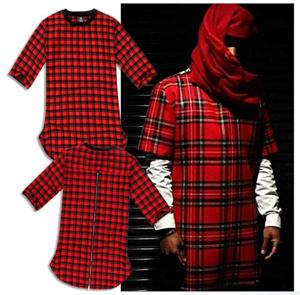C_T-shirt: (137, 63, 287, 293), (4, 4, 163, 156), (20, 139, 175, 289)
